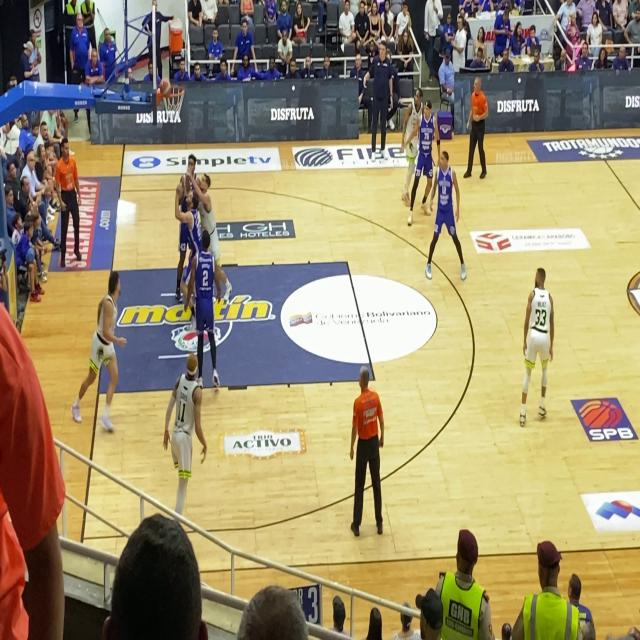Ball: (157, 76, 172, 101)
referee: (343, 362, 390, 548), (54, 128, 86, 278), (464, 70, 488, 188)
team1: (67, 262, 125, 438), (509, 249, 559, 440), (152, 347, 206, 518), (396, 75, 426, 194), (196, 168, 222, 240)
team2: (422, 137, 467, 289), (192, 231, 226, 392), (412, 89, 442, 219), (177, 190, 203, 273)
ubasket: (156, 84, 188, 123)
